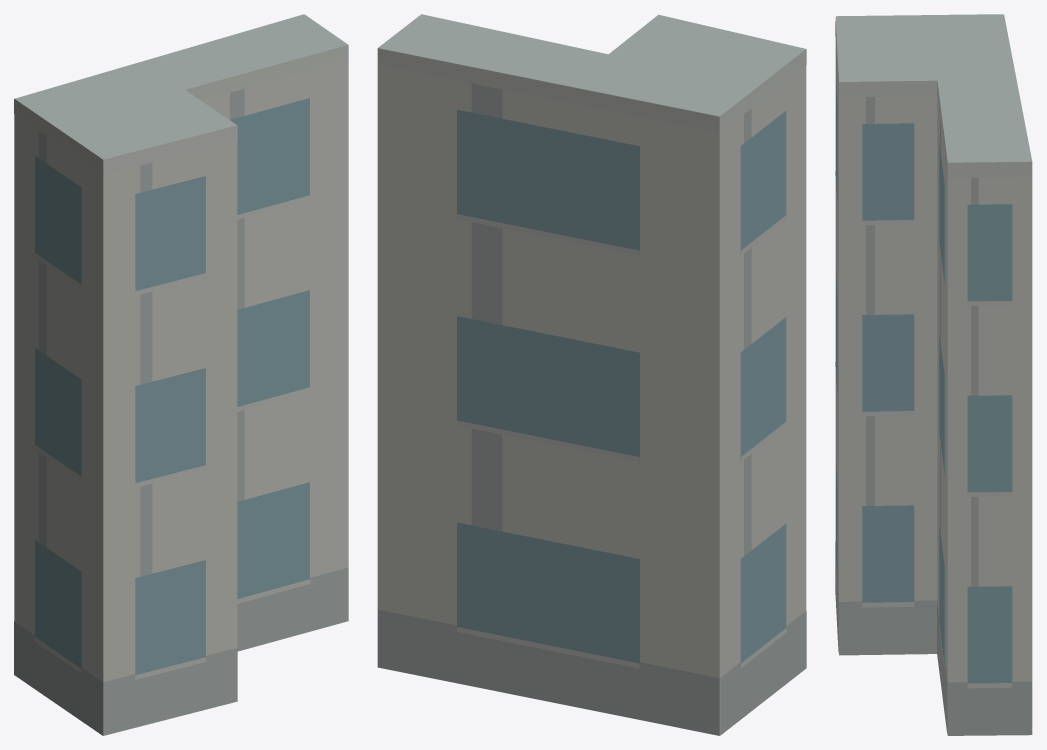
File: survey-upis-32633671.glb
3 views of the same model, side by side, from view 1: azimuth 30°, elevation 25°; view 2: azimuth 150°, elevation 25°; view 3: azimuth 270°, elevation 25° (orthographic). The views are drawn at different scales.
Visible parts, largest first — view 1: survey-upis-32633671.tmp; view 2: survey-upis-32633671.tmp; view 3: survey-upis-32633671.tmp.
Part boxes in pixels (x1=…): survey-upis-32633671.tmp: x1=14, y1=14, x2=348, y2=735; survey-upis-32633671.tmp: x1=377, y1=14, x2=806, y2=735; survey-upis-32633671.tmp: x1=835, y1=14, x2=1032, y2=735.
Size of the model in its own units: 5.1 by 9.15 by 2.86.
